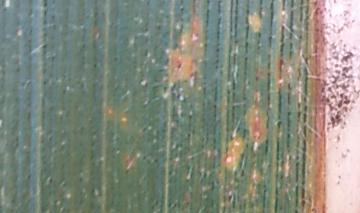tarspot: (225, 192, 233, 204), (46, 176, 54, 184), (176, 62, 183, 70), (239, 169, 245, 177), (41, 1, 49, 7), (179, 5, 184, 12)
